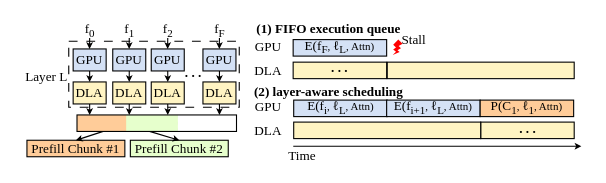
This 606x183 diagram has some shape labels left out. Each missing label, with the box of its shape:
E(f F-3, F-2, F-1, F , ℓ L , FFN): (386, 61, 574, 79)
E(f i+2, i+3, i+4, i+5 , ℓ L-1 , FFN): (293, 121, 481, 139)
Vision Tokens: (126, 114, 177, 131)
